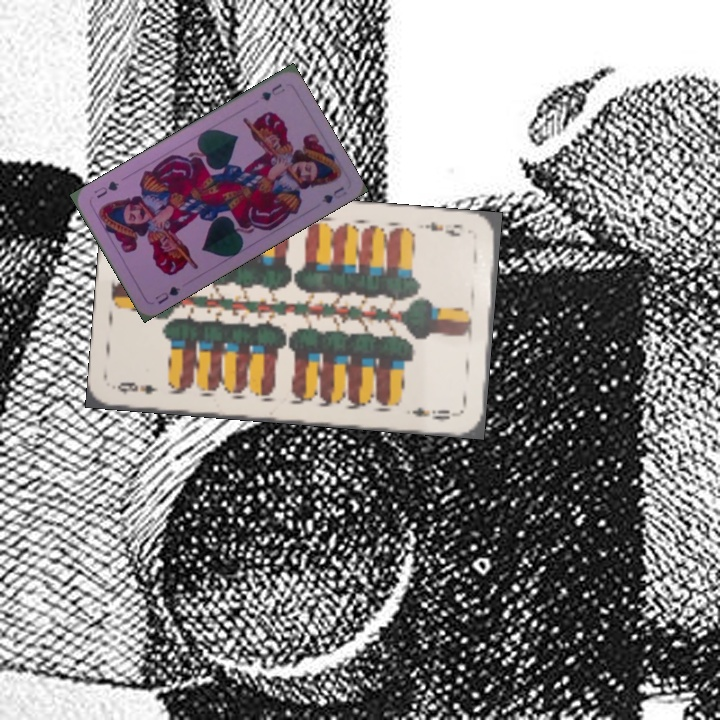E9: (421, 217, 466, 240), (113, 377, 161, 397)
GU: (151, 282, 183, 307), (256, 79, 288, 103)
